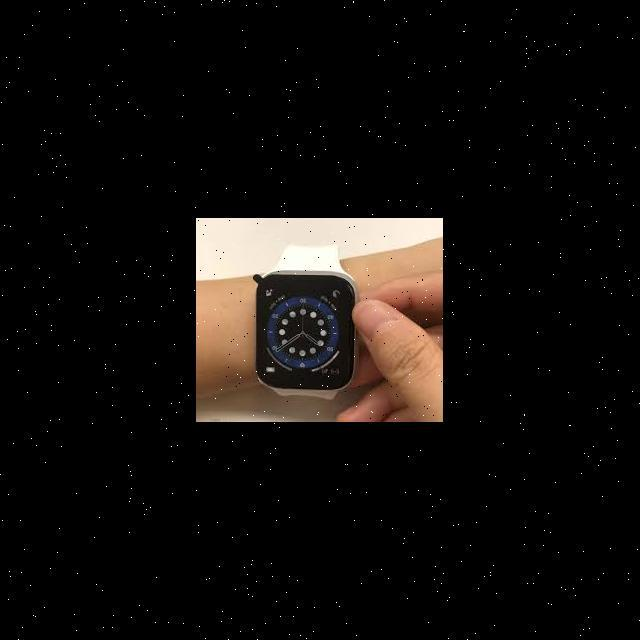watch: (230, 222, 365, 410)
